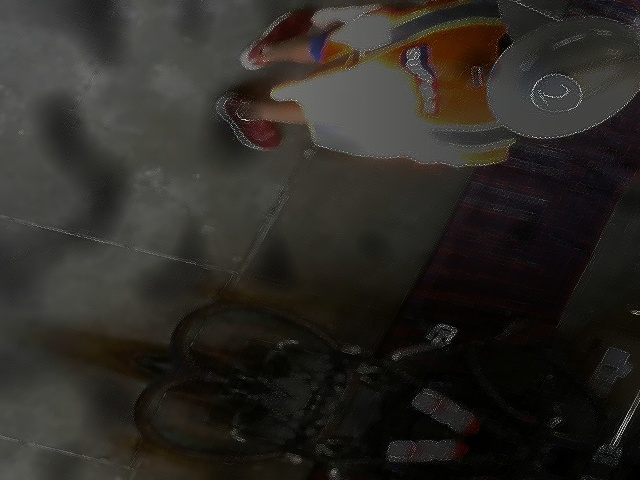two: (523, 69, 592, 118)
